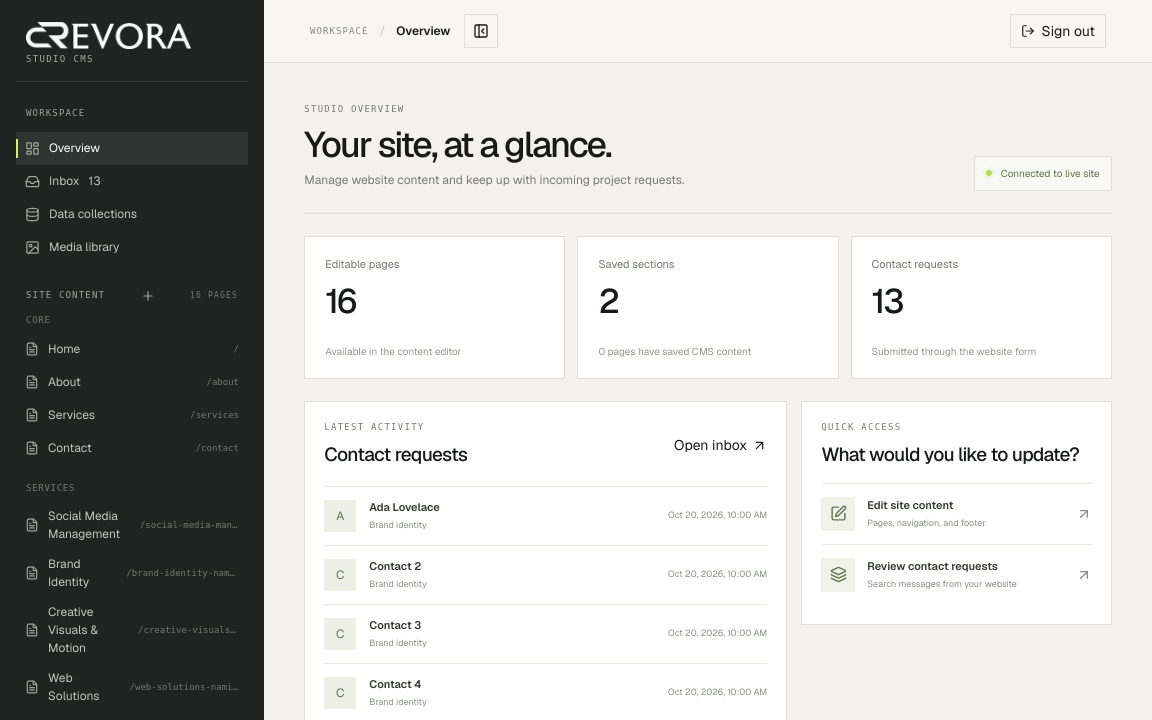
Test: CMS admin dashboard › shows the overview, opens the inbox, searches, expands, paginates, and signs out
Later steps or results of the test are not shown.
expect the heading "Your site, at a glance." is shown: met, box [304,121,611,168]
expect the text "Editable pages" is shown: met, box [325,256,400,272]
Click the button "Inbox 13" at [132, 181], box [16,164,248,198]
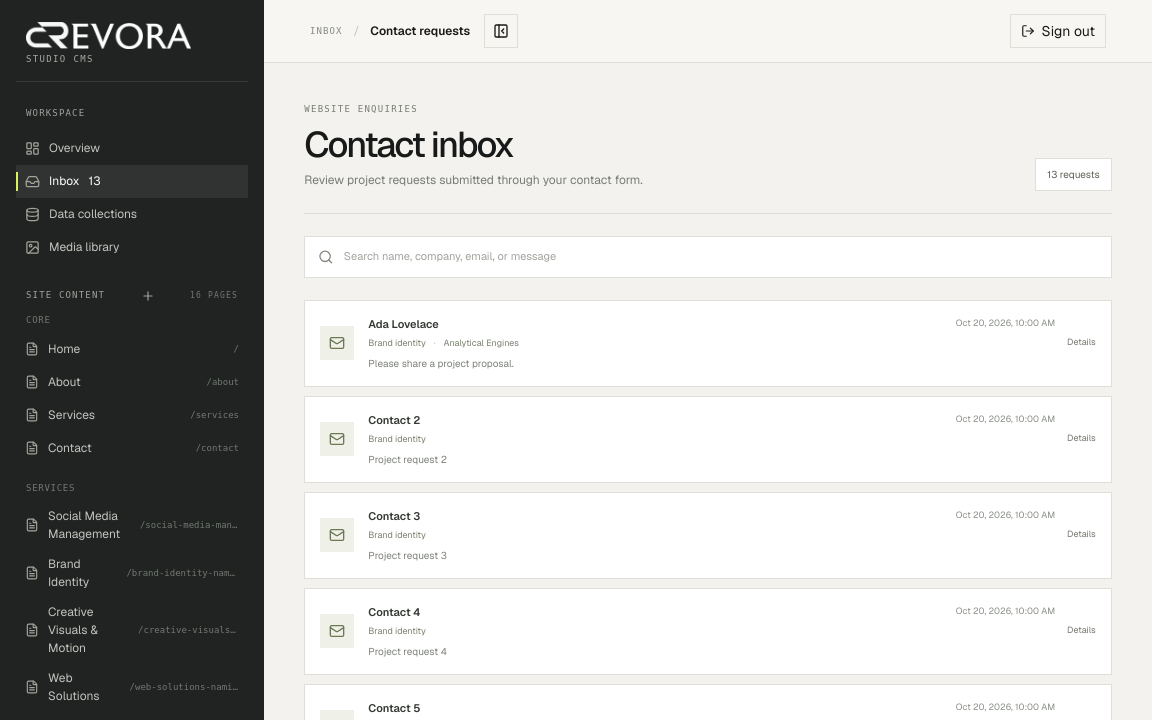
expect the text "Ada Lovelace" is shown: met, box [368,316,439,332]
expect the heading "Contact inbox" is shown: met, box [304,121,513,168]
Click the button named "Details" at [337, 343], box [305,301,1111,386]
(page scrolled)
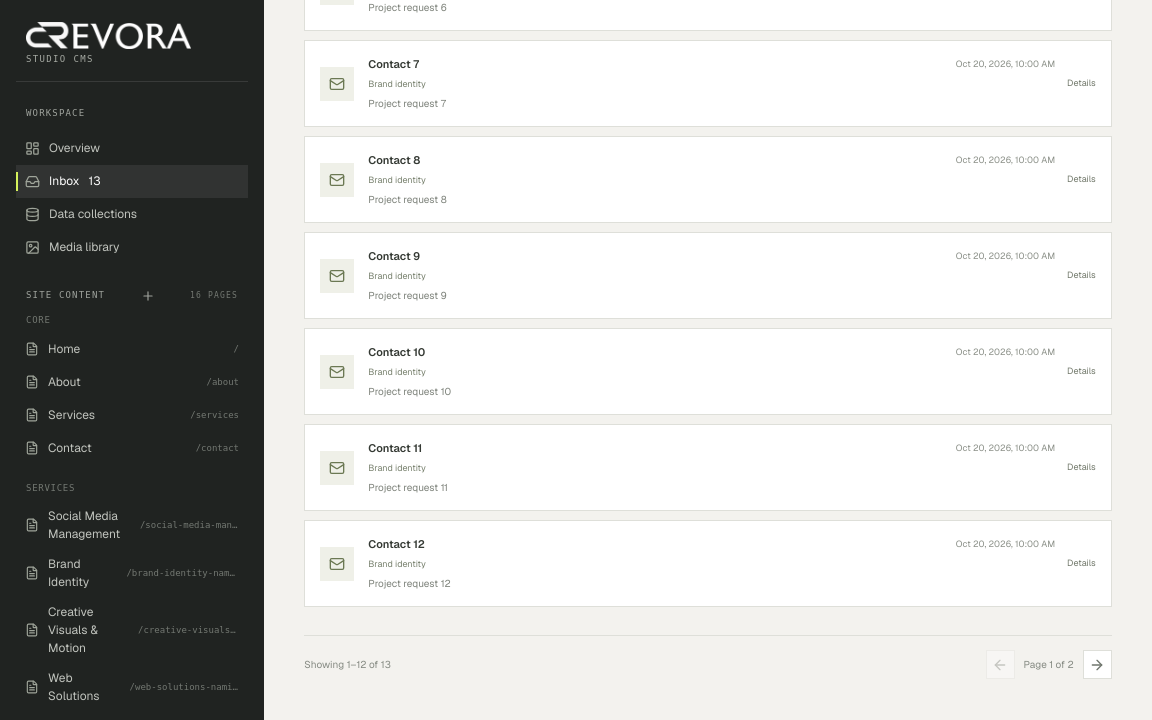
Click the button named "Next page" at [1097, 665], box [1083,650,1112,679]
(page scrolled)
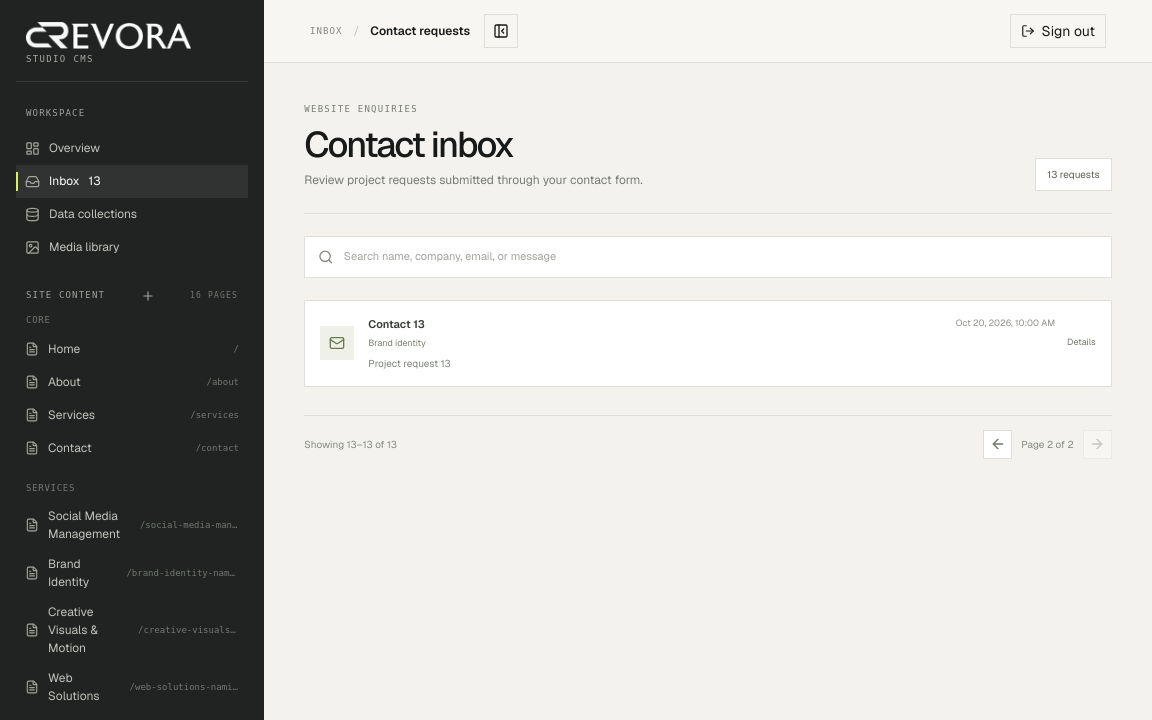
expect the text "Page 2 of 2" is shown: met, box [1021,437,1074,452]
Type "Ada" into the search field with placeholder "Search name, company, email, or message" at [721, 257], box [344,248,1098,265]
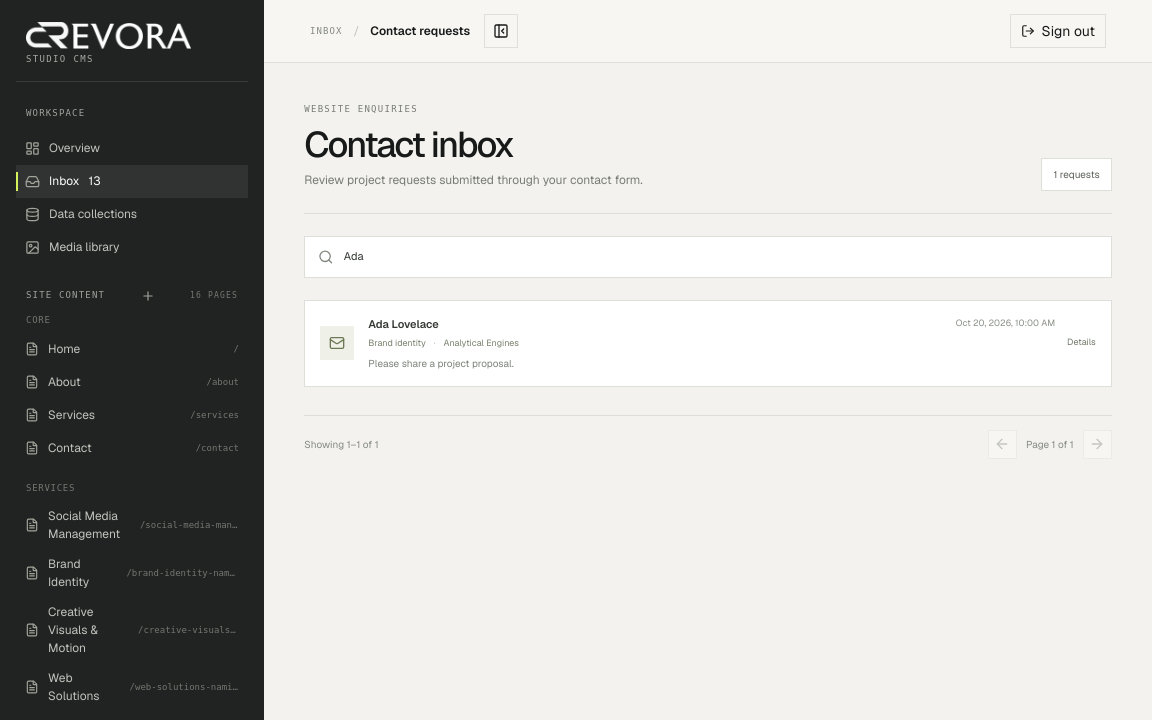
expect the text "Ada Lovelace" is shown: met, box [368,316,439,332]
